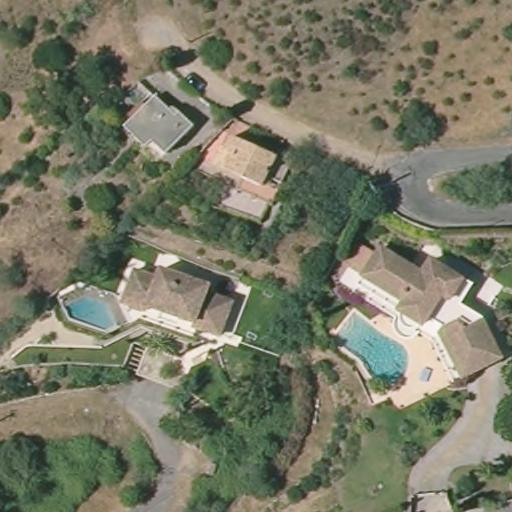pool: (329, 311, 411, 390), (63, 293, 120, 333)
